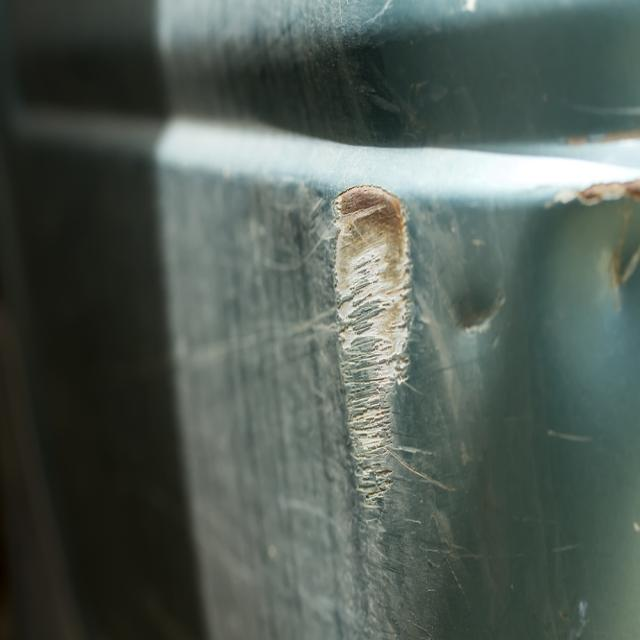dent: (336, 188, 411, 506), (451, 287, 500, 352)
